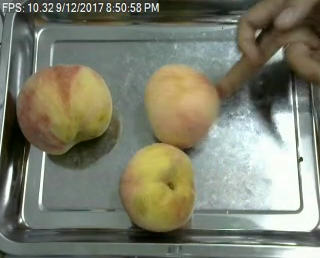Peach: (15, 63, 114, 155), (120, 142, 195, 233), (144, 62, 218, 147)
